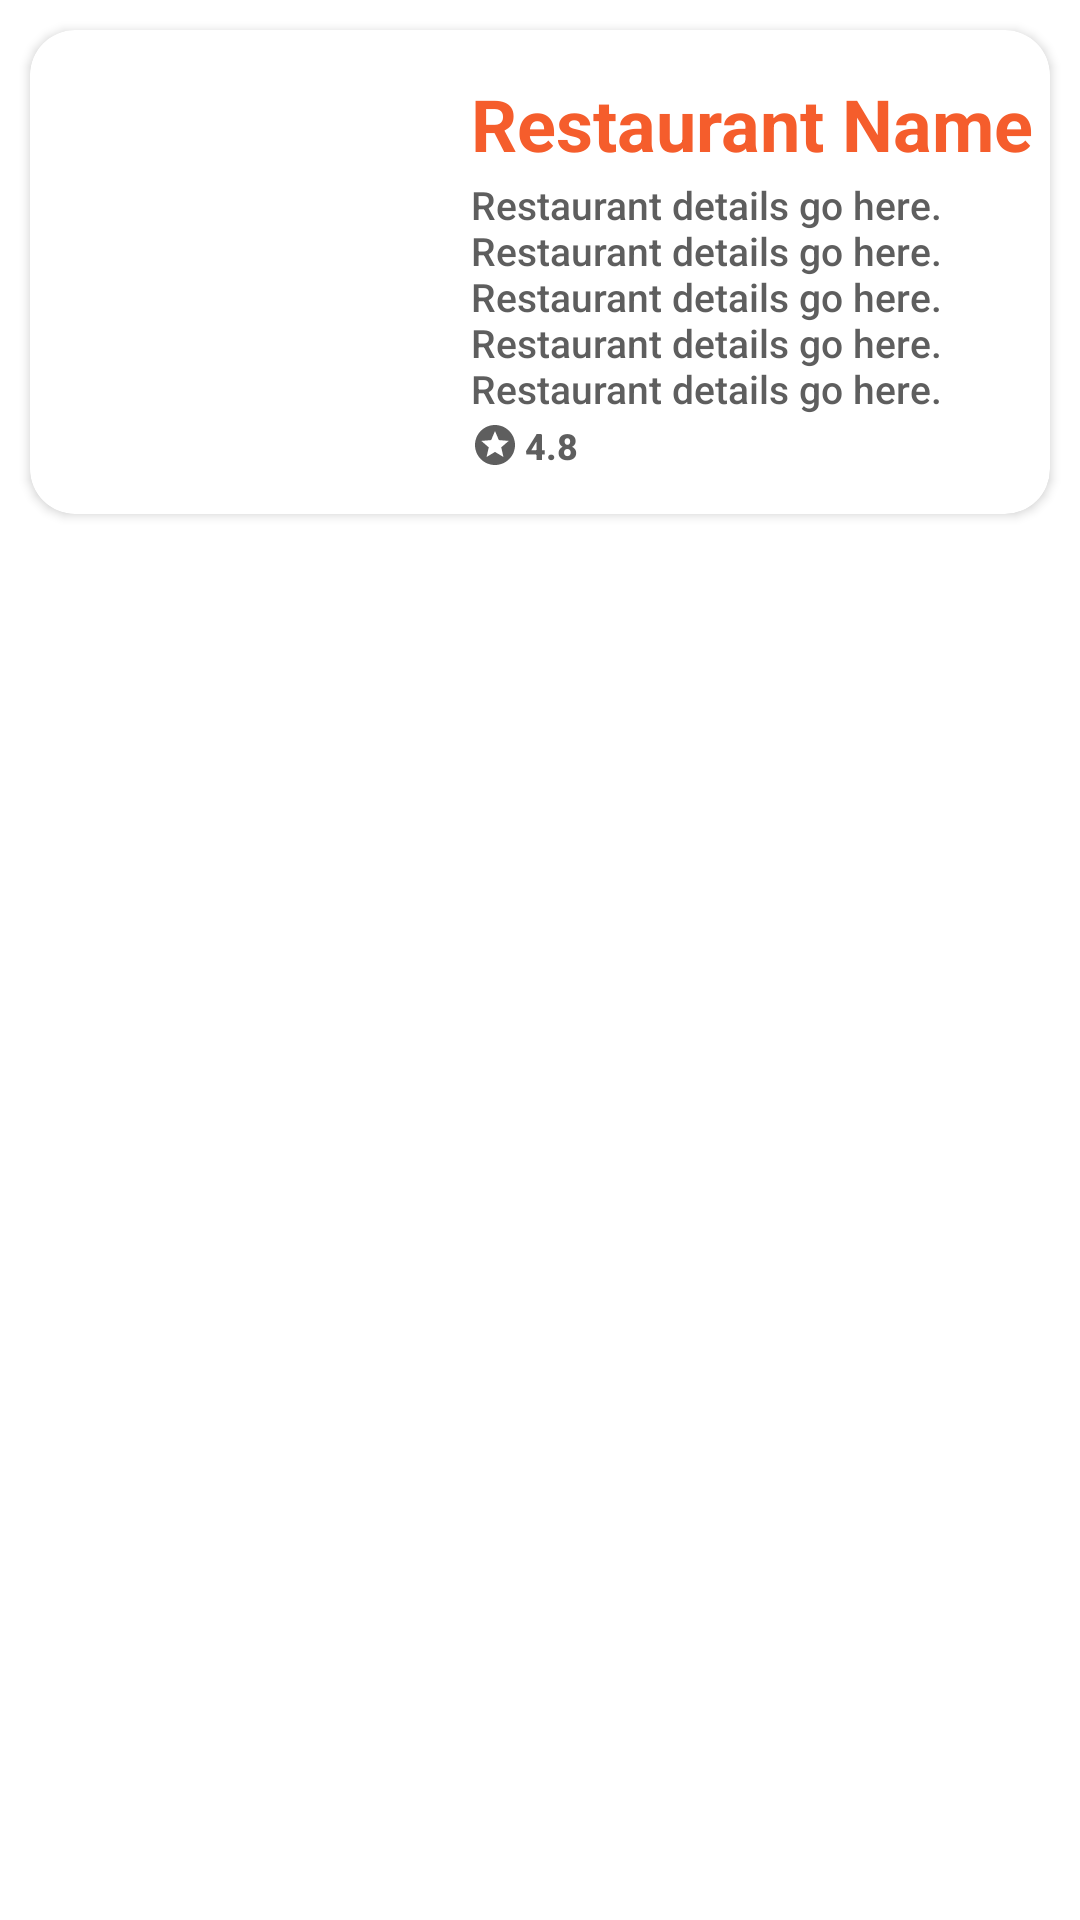

Named icons in this screenshot (1080*1920) and their bounding boxes, box=[x1, y1, x2, y2]:
stars: box=[475, 425, 515, 465]
